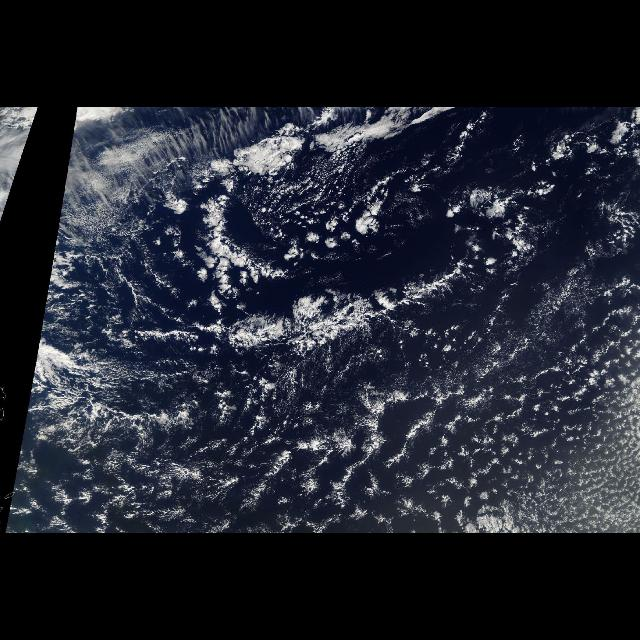Fish: (115, 128, 512, 374)
Flower: (175, 154, 640, 534)
Gravel: (348, 329, 636, 489)
